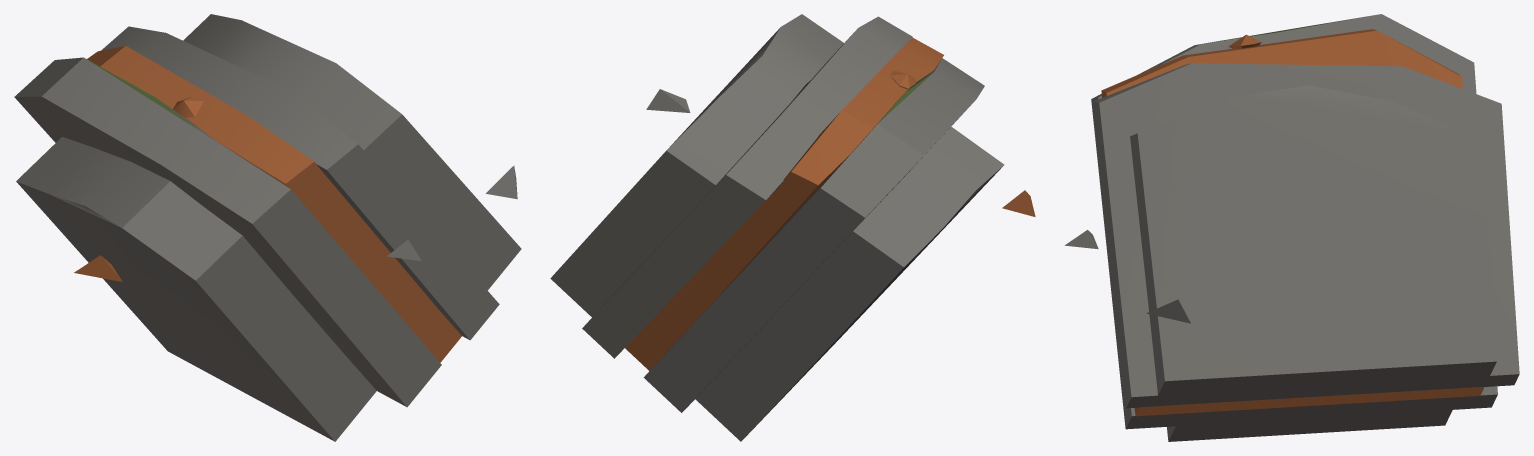
File: MiningOutcropA.fbx
3 renders of one model, left to right at view 1: azimuth 30°, elevation 25°; view 2: azimuth 150°, elevation 25°; view 3: azimuth 270°, elevation 25°, orthographic. The views are drawn at different scales.
Visible parts, largest first — view 1: MiningOutcropA; view 2: MiningOutcropA; view 3: MiningOutcropA.
Part boxes in pixels (x1=…): MiningOutcropA: x1=14, y1=14, x2=521, y2=441; MiningOutcropA: x1=550, y1=14, x2=1035, y2=441; MiningOutcropA: x1=1064, y1=14, x2=1519, y2=441.
Size of the model in its own units: 1.78 by 1.4 by 1.59.
